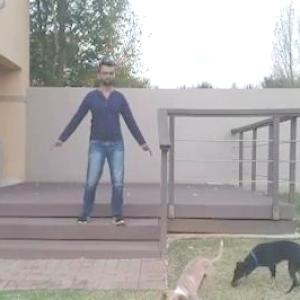land: (56, 64, 149, 237)
